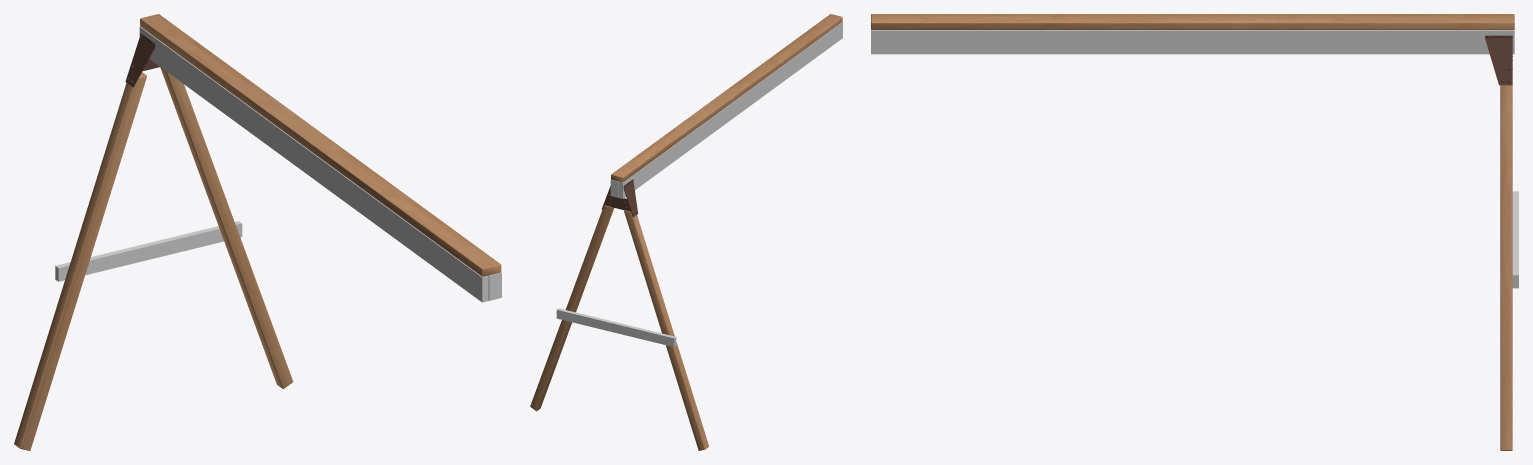
3 views of the same model, side by side, from view 1: azimuth 30°, elevation 25°; view 2: azimuth 150°, elevation 25°; view 3: azimuth 270°, elevation 25° (orthographic). The views are drawn at different scales.
Visible parts, largest first — view 1: Plane001, Plane001_1,_colorize_, Plane001_2; view 2: Plane001, Plane001_1,_colorize_, Plane001_2; view 3: Plane001_1,_colorize_, Plane001, Plane001_2.
Boxes of the visible parts, <box> form: Plane001: <box>14,14,501,450</box>; Plane001_1,_colorize_: <box>55,26,501,302</box>; Plane001_2: <box>125,33,159,87</box>; Plane001: <box>530,14,842,450</box>; Plane001_1,_colorize_: <box>556,22,842,346</box>; Plane001_2: <box>601,179,638,217</box>; Plane001_1,_colorize_: <box>871,29,1518,288</box>; Plane001: <box>871,14,1514,450</box>; Plane001_2: <box>1485,35,1512,85</box>.
Bounding box in the file's own units: 1.98 × 2.76 × 4.33.
Materials: 3 (1 with a texture image).
